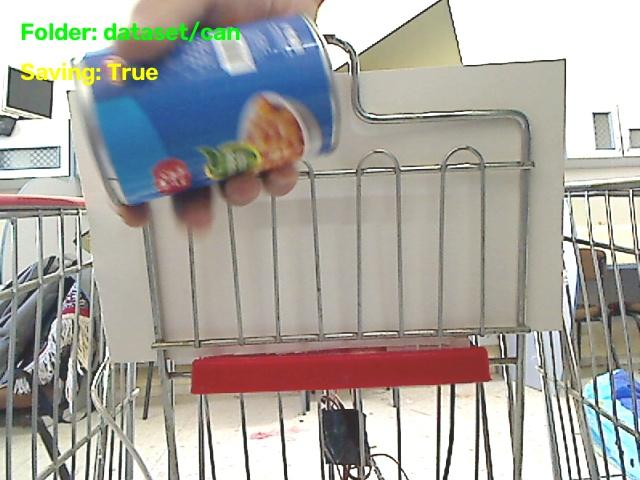can: (76, 15, 337, 204)
